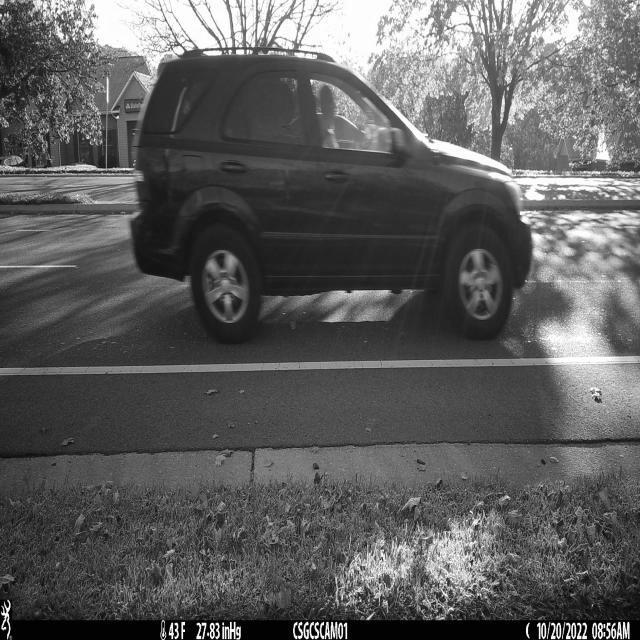SUV: (129, 53, 534, 345)
